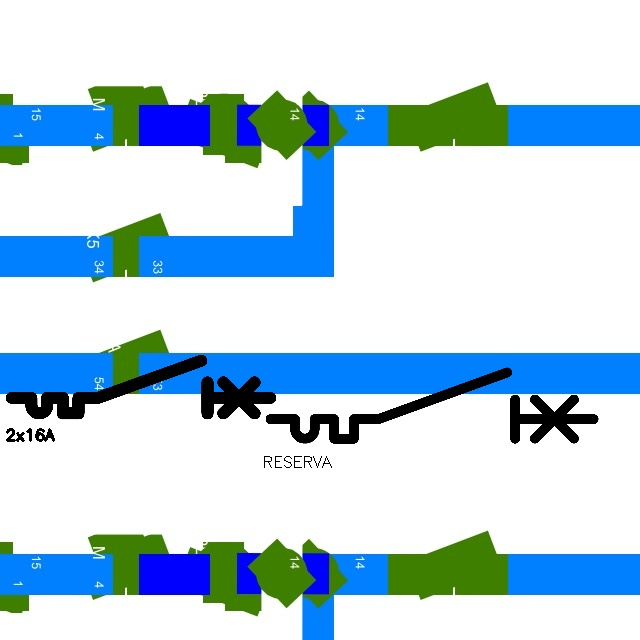interruptor_termomagnetico: (262, 364, 601, 447), (5, 354, 277, 420)
